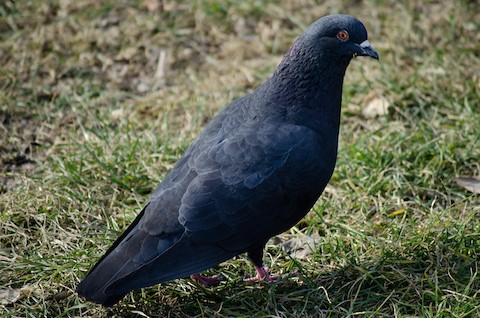pigeon: (72, 12, 384, 309)
